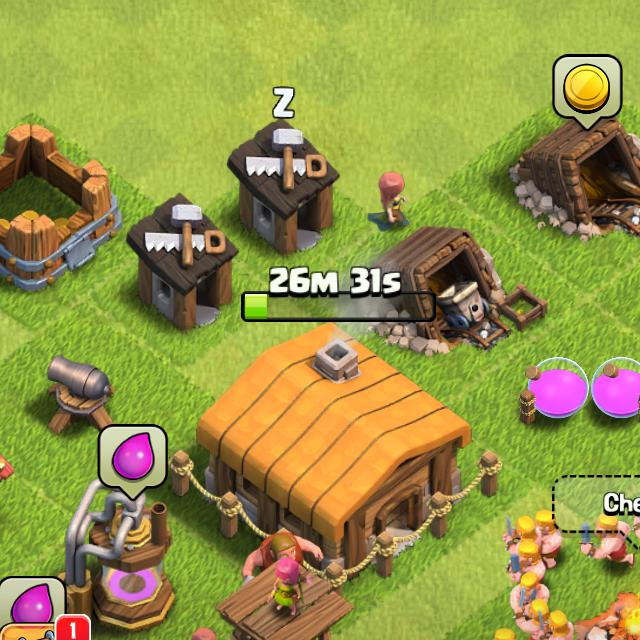Elixir: (99, 426, 168, 492), (0, 575, 63, 624)
coin: (552, 54, 622, 119)
